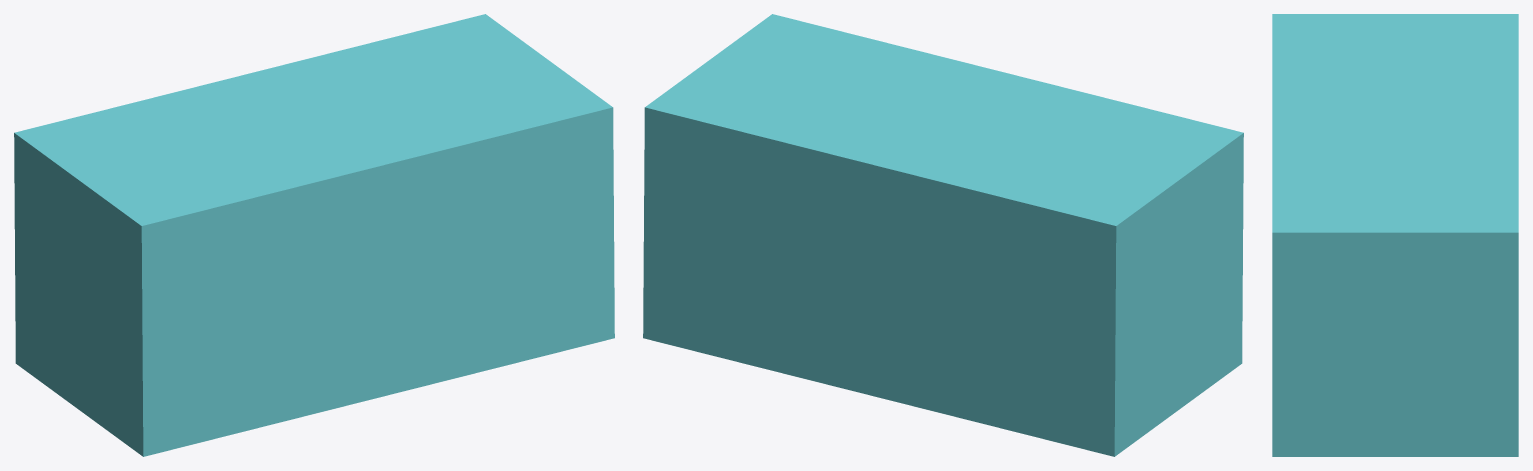
File: house5.glb
The picture shows the model from 3 angles, left to right: view 1: azimuth 30°, elevation 25°; view 2: azimuth 150°, elevation 25°; view 3: azimuth 270°, elevation 25°; orthographic projection. The views are drawn at different scales.
Parts seen in each view (by area): view 1: house4 -col; view 2: house4 -col; view 3: house4 -col.
Boxes of the visible parts, x1,y1,x2,y2 form: house4 -col: (14, 14, 614, 456); house4 -col: (643, 14, 1243, 456); house4 -col: (1272, 14, 1518, 456).
Size of the model in its own units: 13.31 by 6.32 by 6.22.
Materials: 1 (1 with a texture image).
